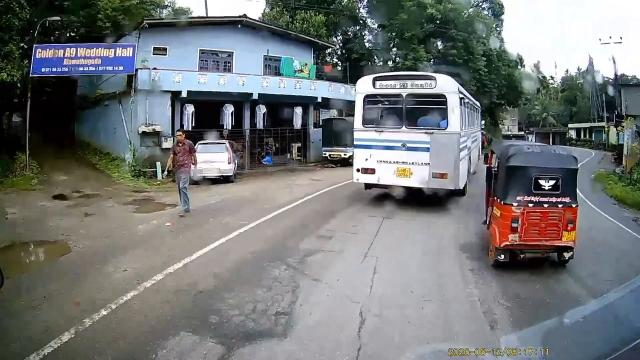illegal overtaking: (479, 127, 584, 286)
